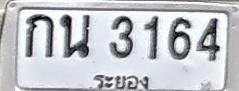1: (144, 15, 158, 60)
3: (109, 15, 133, 58)
4: (196, 17, 220, 61)
6: (168, 17, 192, 60)
A01: (25, 13, 54, 58)
A25: (59, 13, 90, 58)
RYG: (93, 72, 151, 91)
